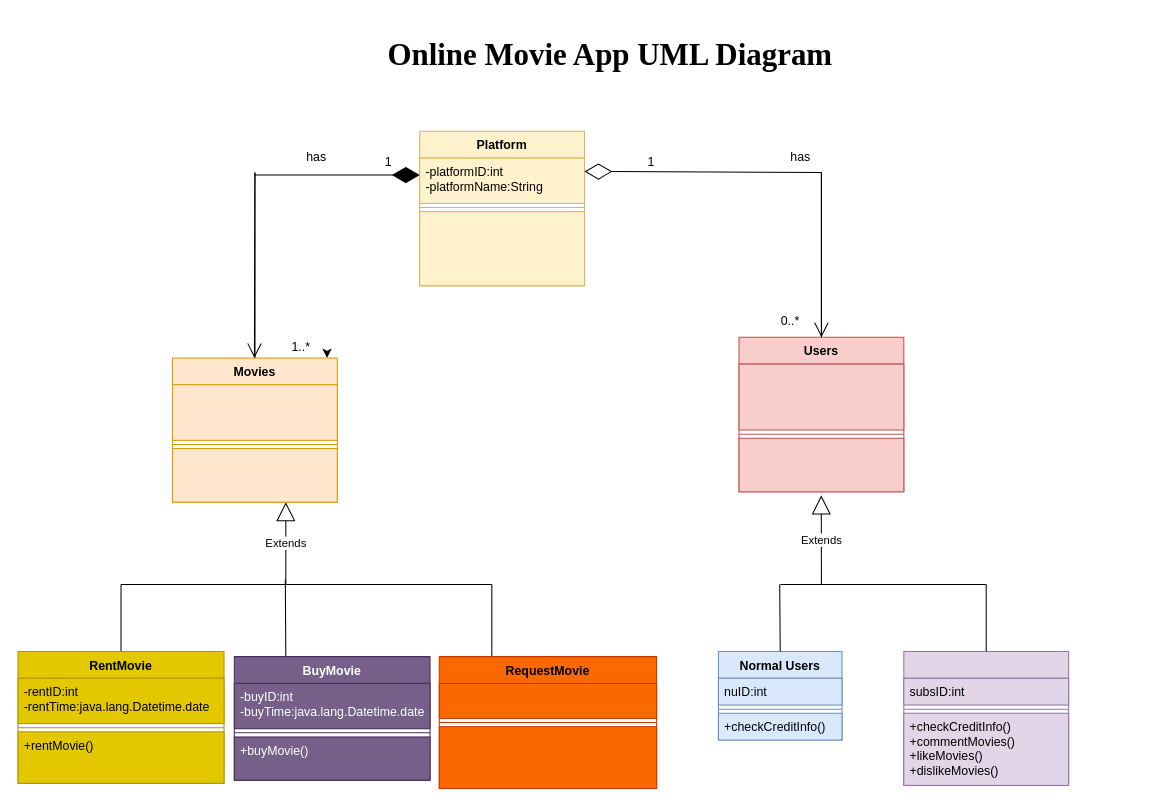
This 1159x809 diagram has some shape labels left out. Here are the shapes that lost their labels. From the top down, the box of each, then its label:
(419, 211, 585, 286): +rentMovie() +buyMovie() +requestMovie() +subscribe()
(171, 384, 337, 440): -movieID:int -movieName:String -movieType:String
(738, 363, 904, 430): -userID:int -userName:String -userMail:String -userCredit:int
(171, 448, 337, 502): +listMovies() +sortMovies()
(738, 437, 904, 492): + buyCredit()
(438, 682, 657, 718): -requestID:int -requestTime:java.lang.Datetime.date
(903, 650, 1069, 785): Subscribers
(438, 726, 657, 788): +requestMovie()
